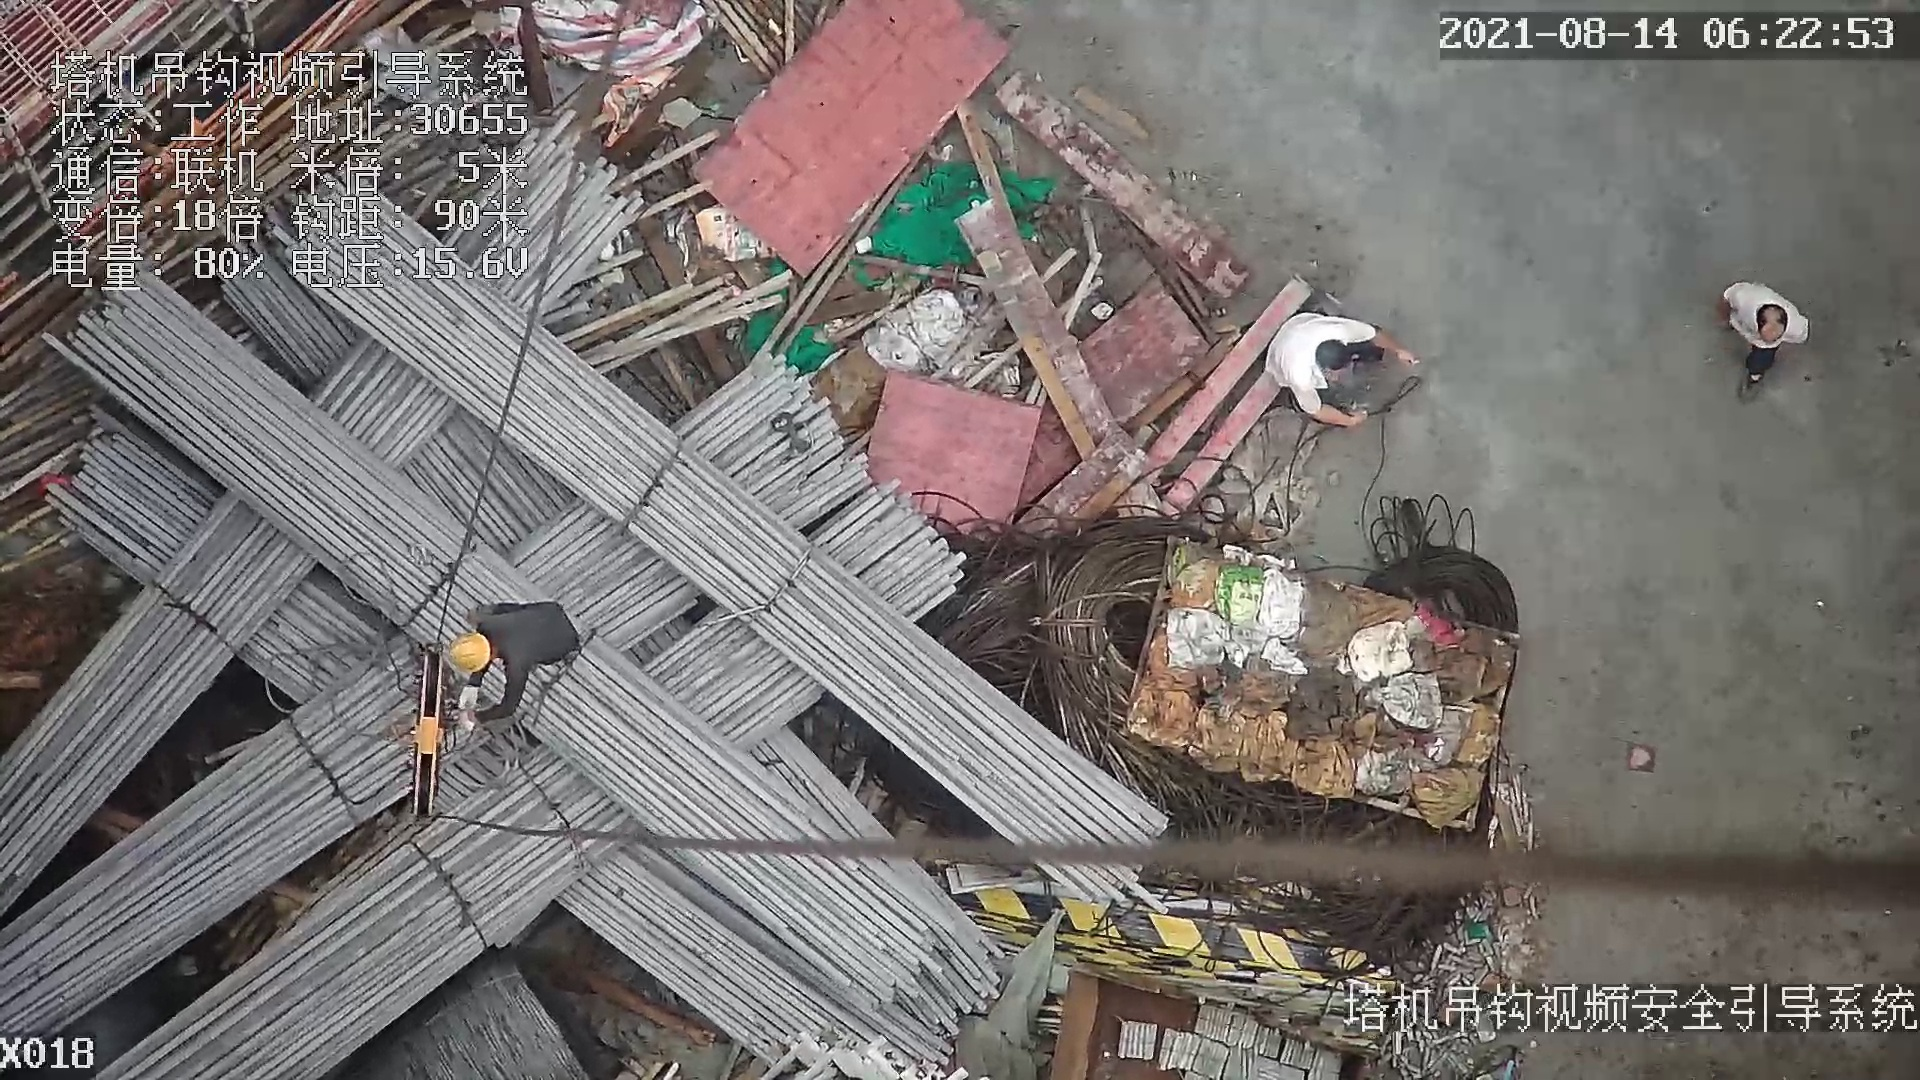board: (689, 2, 1010, 278)
helmet: (448, 635, 493, 674)
hook: (403, 646, 447, 827)
person: (1260, 300, 1423, 430), (449, 599, 583, 727), (1714, 274, 1810, 404)
